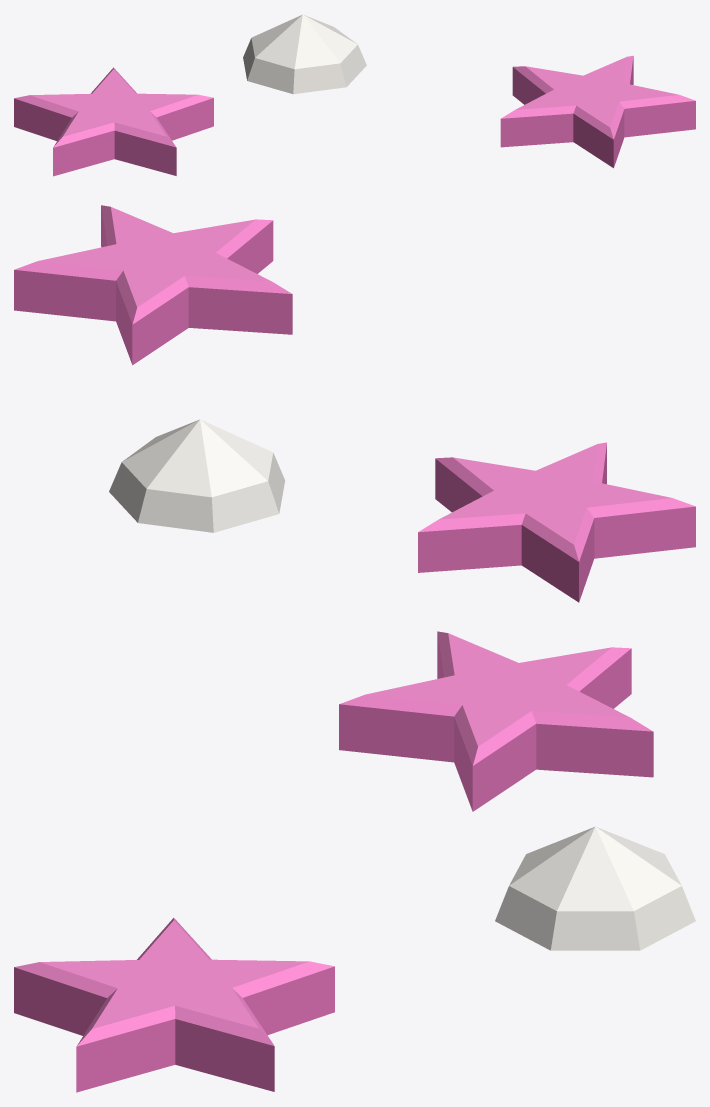
Rendered from BeachBits_1.glb.
The picture shows the model from 3 angles, top to bottom: view 1: azimuth 30°, elevation 25°; view 2: azimuth 150°, elevation 25°; view 3: azimuth 270°, elevation 25°; orthographic projection. The views are drawn at different scales.
Parts seen in each view (by area): view 1: BeachBits_1; view 2: BeachBits_1; view 3: BeachBits_1.
Part boxes in pixels (<box>): BeachBits_1: <box>14,14,695,176</box>; BeachBits_1: <box>14,205,695,602</box>; BeachBits_1: <box>14,631,695,1092</box>.
Size of the model in its own units: 5.24 by 0.5 by 3.64.
1 material, 1 textured.
